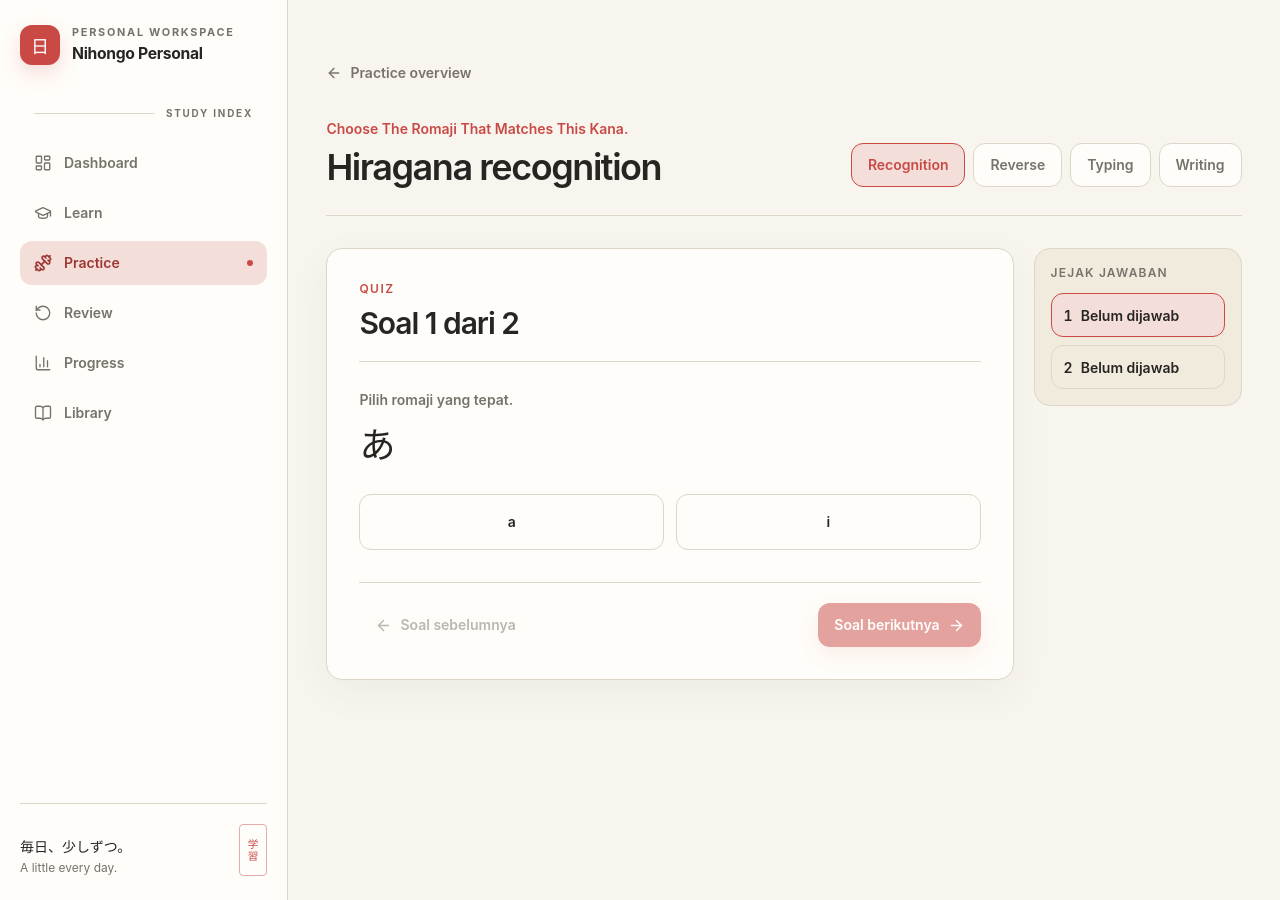
Test: Kana practice › runs recognition through the shared session with locked feedback and navigation
Expected: the heading "Hiragana recognition" is shown, x1=326 y1=147 x2=661 y2=187
Click the button "a" at [512, 522], box x1=359 y1=494 x2=664 y2=550
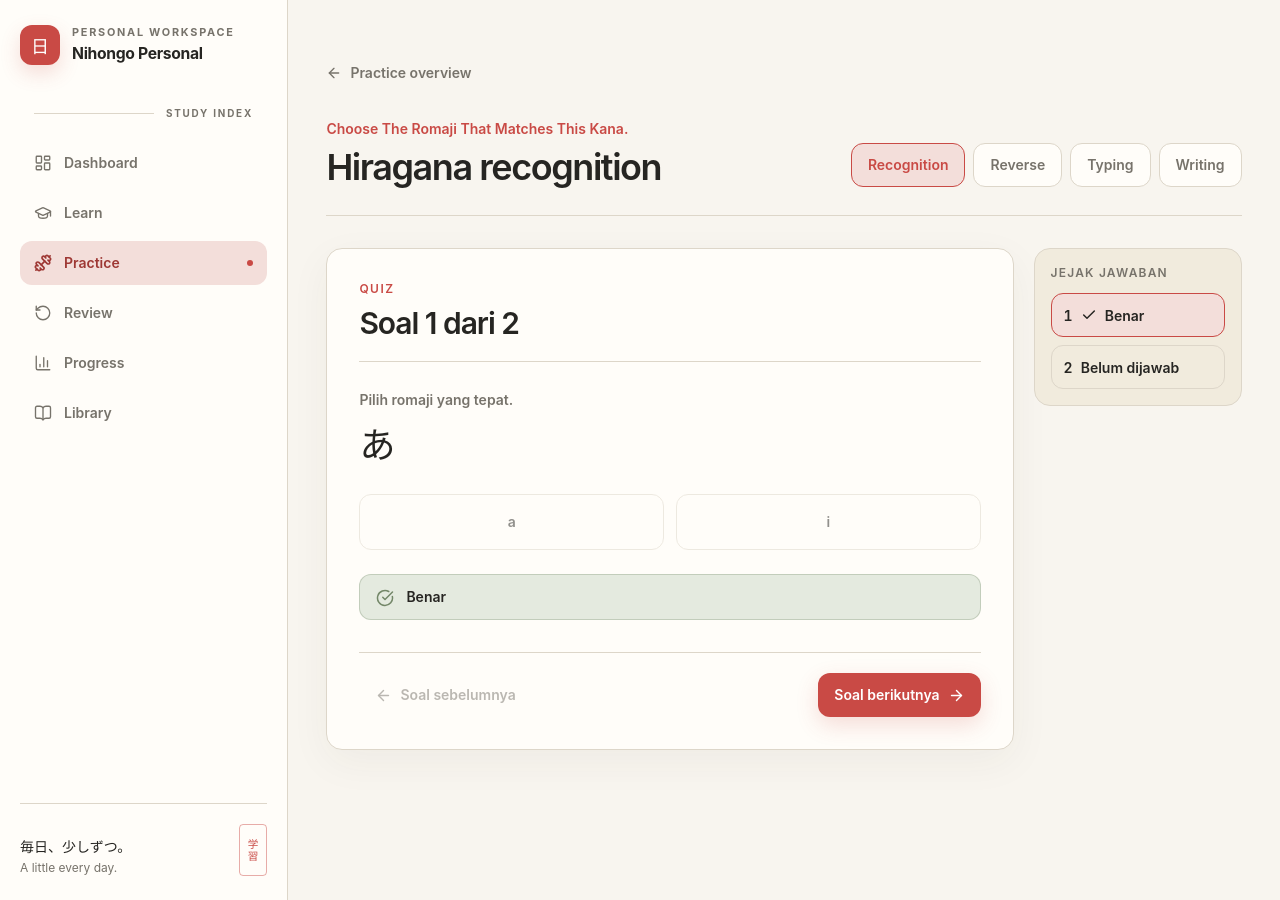
Expected: the message reads "Benar", x1=406 y1=588 x2=446 y2=605
Expected: the button "a" is disabled, x1=359 y1=494 x2=664 y2=550
Click the button "Soal berikutnya" at [899, 695], box x1=818 y1=673 x2=981 y2=717
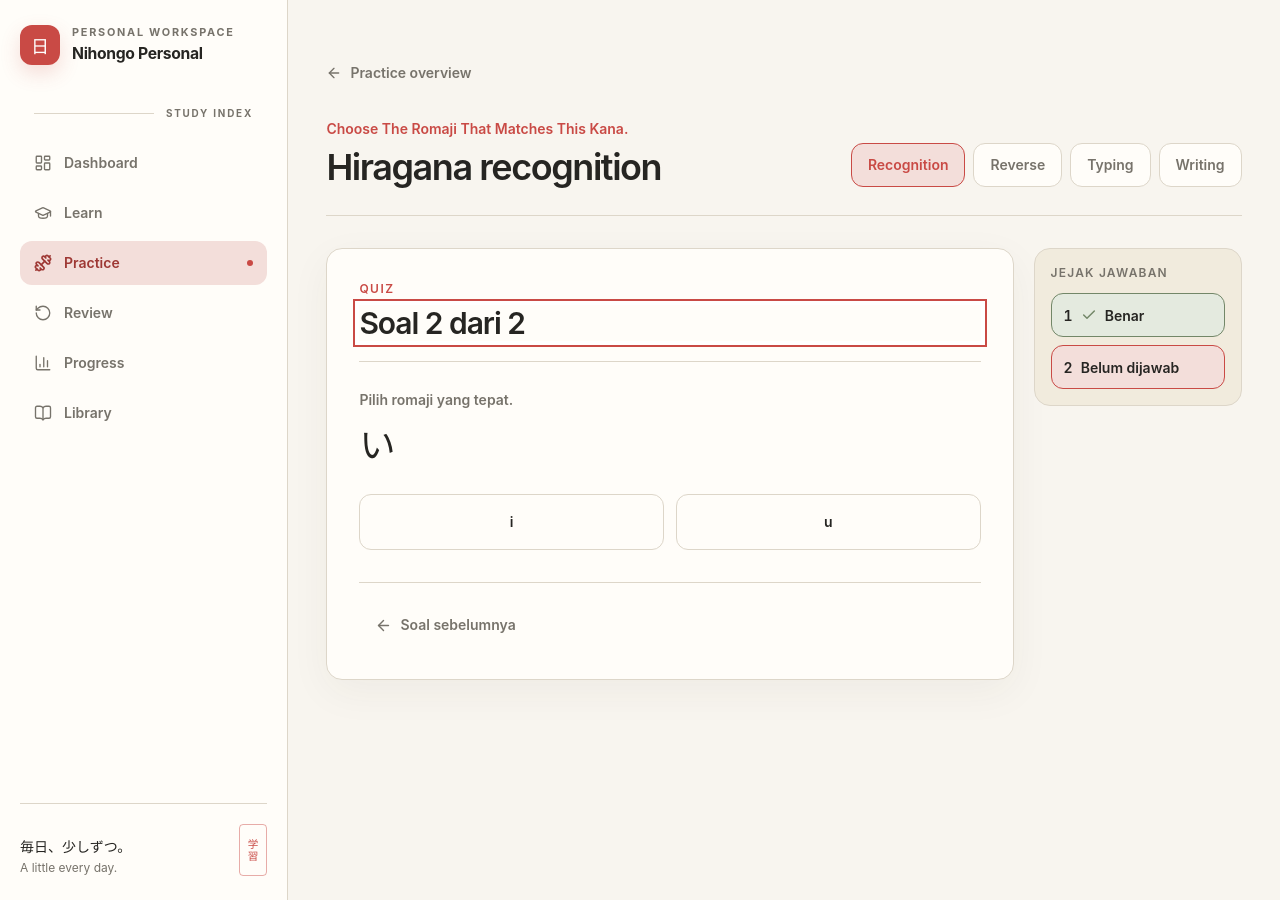
Expected: the heading "い" is shown, x1=359 y1=416 x2=394 y2=468
